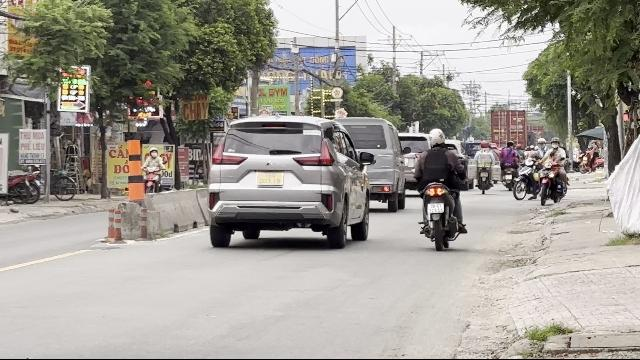helmet: (427, 127, 445, 147)
licenseplate: (428, 204, 444, 214)
motorcyclist: (414, 127, 468, 250)
